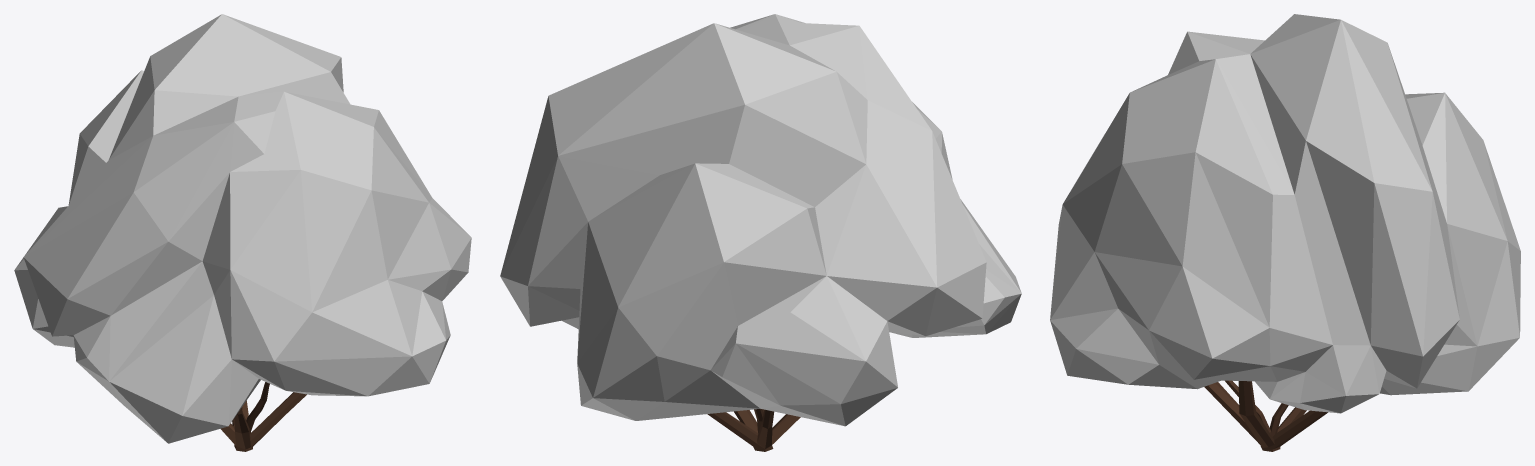
The model's file is foliage_bush.fbx.
3 views of the same model, side by side, from view 1: azimuth 30°, elevation 25°; view 2: azimuth 150°, elevation 25°; view 3: azimuth 270°, elevation 25° (orthographic). The views are drawn at different scales.
Visible parts, largest first — view 1: branches_LOD0; view 2: branches_LOD0; view 3: branches_LOD0.
Part boxes in pixels (x1,y1,x2,y2): branches_LOD0: [14, 14, 471, 451]; branches_LOD0: [500, 14, 1021, 451]; branches_LOD0: [1050, 14, 1520, 451].
Size of what is drawn, in the model's own units: 77.18 by 75.74 by 74.49.
